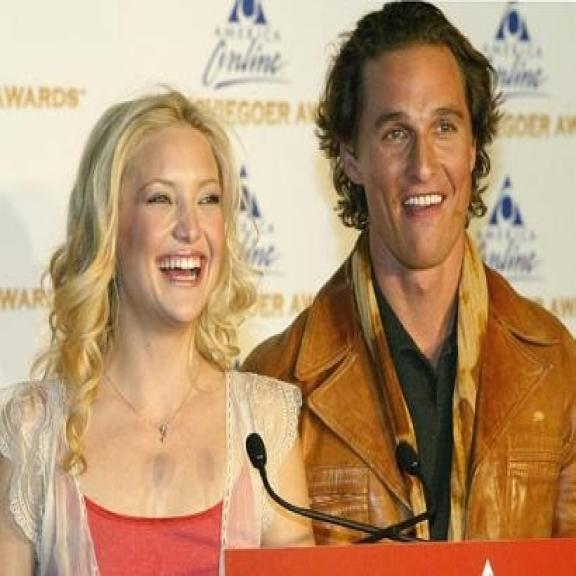face: (338, 24, 483, 272), (96, 106, 234, 330)
